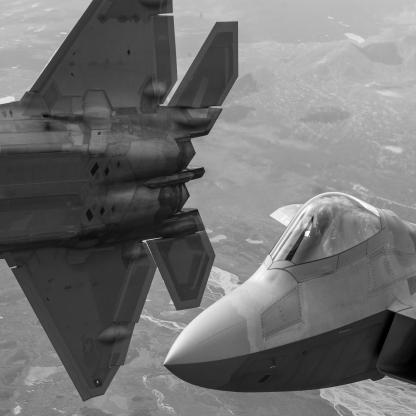F22: (1, 1, 239, 403), (164, 193, 416, 394)
